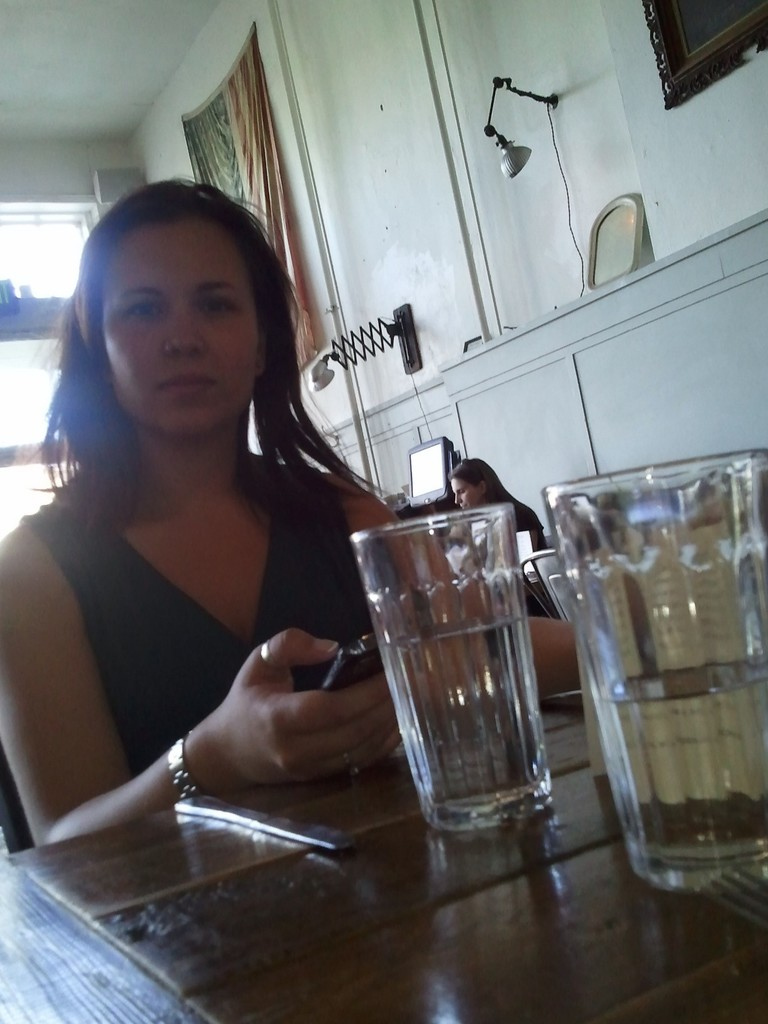Person: (443, 457, 547, 557)
